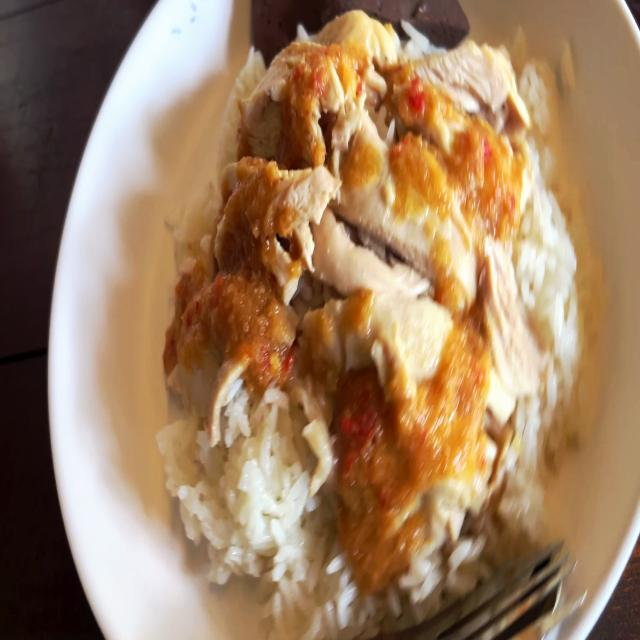boiled_chicken: (193, 31, 498, 528)
boiled_chicken_blood_jelly: (253, 0, 475, 51)
chicken_rice: (157, 0, 586, 604)
